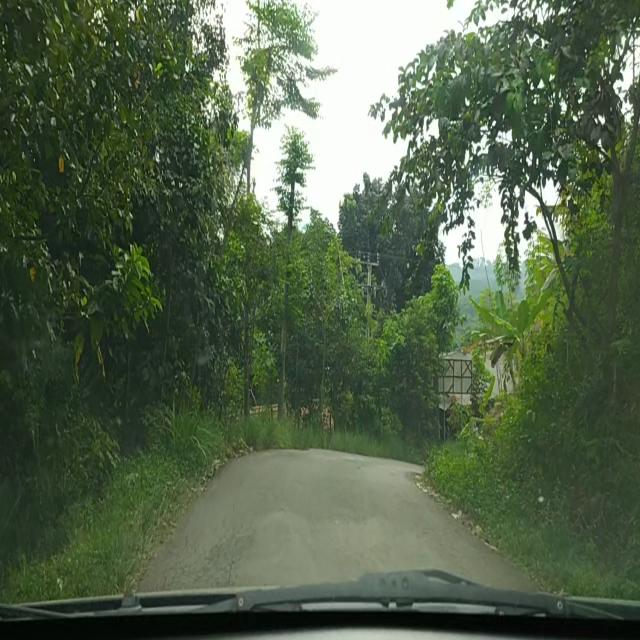Drain Hole: (163, 522, 253, 589)
